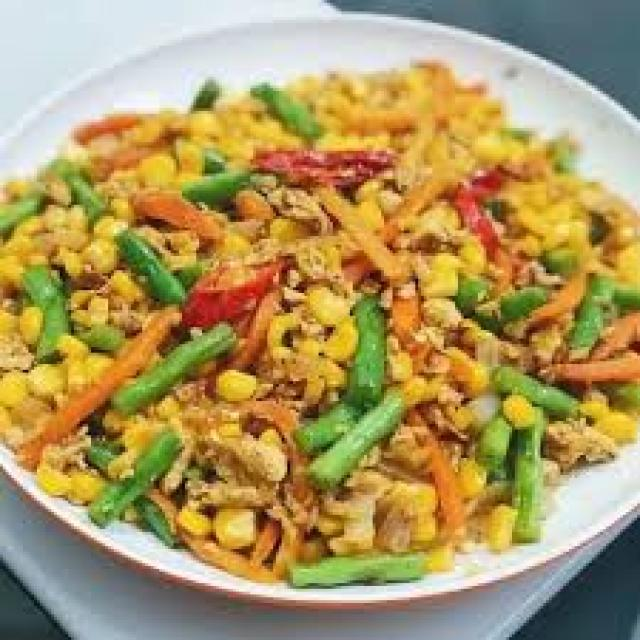kacang_panjang: (474, 352, 566, 538), (342, 292, 402, 488), (107, 220, 204, 324)
wortel: (23, 308, 196, 450), (129, 174, 239, 254)
